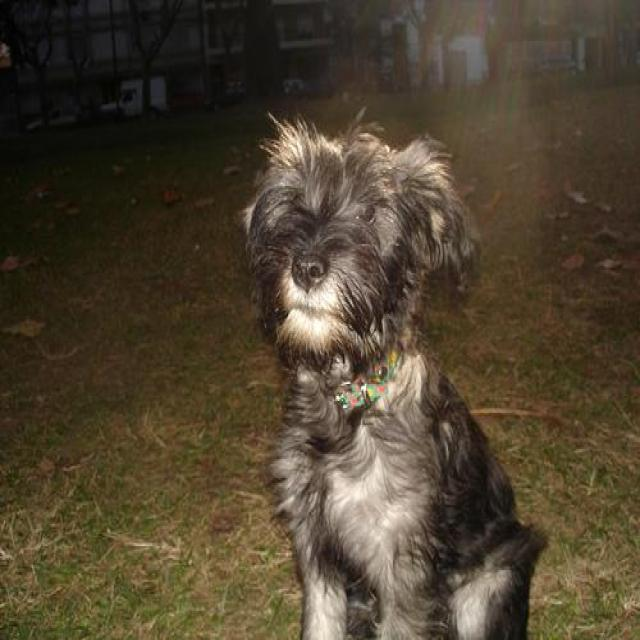standard_schnauzer: (241, 120, 549, 638)
